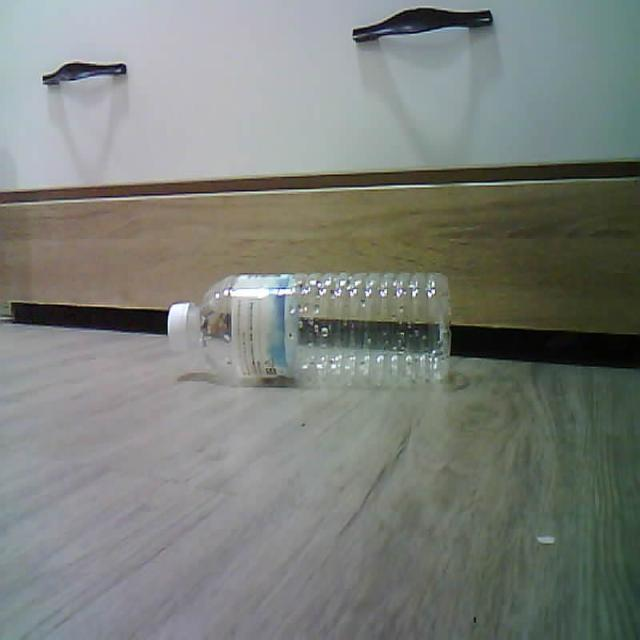bottle: (168, 273, 450, 387)
